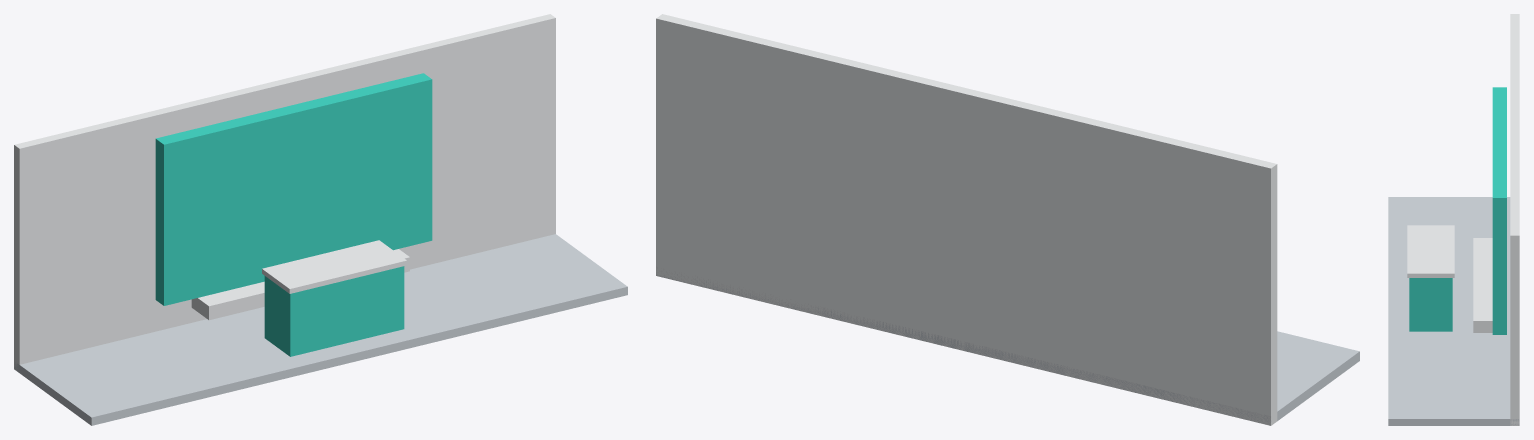
3 views of the same model, side by side, from view 1: azimuth 30°, elevation 25°; view 2: azimuth 150°, elevation 25°; view 3: azimuth 270°, elevation 25° (orthographic). The views are drawn at different scales.
Parts seen in each view (by area): view 1: Exhibition Booth Concept; view 2: Exhibition Booth Concept; view 3: Exhibition Booth Concept.
Part boxes in pixels (bbox=[...]): Exhibition Booth Concept: bbox=[14, 14, 627, 425]; Exhibition Booth Concept: bbox=[656, 14, 1359, 425]; Exhibition Booth Concept: bbox=[1388, 14, 1519, 425].
Size of the model in its own units: 8 by 3.2 by 2.
